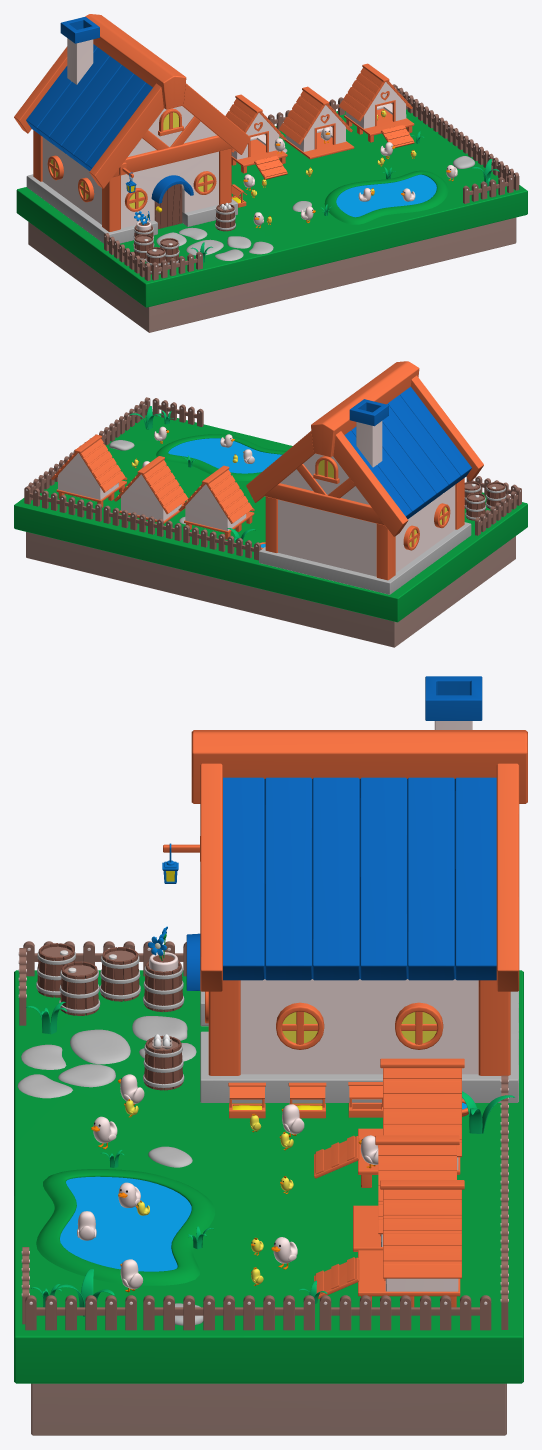
File: Farm_Island_14.glb
3 renders of one model, top to bottom at view 1: azimuth 30°, elevation 25°; view 2: azimuth 150°, elevation 25°; view 3: azimuth 270°, elevation 25°, orthographic. The views are drawn at different scales.
Visible parts, largest first — view 1: Farm_14_Base_1, Farm_14_House_1, Farm_14_Pond_1, Farm_14_Duck_Coop_3, Farm_14_Duck_Coop_2, Farm_14_Duck_Coop_1, Farm_14_Fence_6, Farm_14_Fence_5, Farm_14_Fence_9, Farm_14_Fence_10, Farm_14_Fence_4, Farm_14_Barrel_1 (+3 smaller); view 2: Farm_14_House_1, Farm_14_Base_1, Farm_14_Pond_1, Farm_14_Duck_Coop_1, Farm_14_Duck_Coop_3, Farm_14_Duck_Coop_2, Farm_14_Fence_8, Farm_14_Fence_3, Farm_14_Fence_1, Farm_14_Fence_6, Farm_14_Fence_9, Farm_14_Fence_2 (+4 smaller); view 3: Farm_14_Base_1, Farm_14_House_1, Farm_14_Pond_1, Farm_14_Duck_Coop_3, Farm_14_Duck_Coop_1, Farm_14_Duck_Coop_2, Farm_14_Fence_4, Farm_14_Fence_5, Farm_14_Fence_2, Farm_14_Barrel_3, Farm_14_Barrel_5, Farm_14_Barrel_1 (+12 smaller).
Boxes of the visible parts, box(x1,y1,x2,y2) form: Farm_14_Base_1: box(16, 109, 527, 332); Farm_14_House_1: box(14, 14, 250, 243); Farm_14_Pond_1: box(324, 170, 448, 224); Farm_14_Duck_Coop_3: box(339, 63, 414, 147); Farm_14_Duck_Coop_2: box(278, 86, 354, 159); Farm_14_Duck_Coop_1: box(225, 94, 287, 179); Farm_14_Fence_6: box(104, 233, 150, 280); Farm_14_Fence_5: box(442, 120, 488, 167); Farm_14_Fence_9: box(463, 175, 513, 203); Farm_14_Fence_10: box(152, 251, 202, 280); Farm_14_Fence_4: box(397, 87, 444, 135); Farm_14_Barrel_1: box(215, 203, 235, 231); Farm_14_House_1: box(246, 361, 483, 594); Farm_14_Base_1: box(14, 412, 527, 647); Farm_14_Pond_1: box(156, 434, 286, 480); Farm_14_Duck_Coop_1: box(178, 465, 254, 539); Farm_14_Duck_Coop_3: box(51, 434, 127, 507); Farm_14_Duck_Coop_2: box(114, 456, 188, 523); Farm_14_Fence_8: box(103, 505, 181, 541); Farm_14_Fence_3: box(24, 486, 101, 521); Farm_14_Fence_1: box(183, 525, 260, 560); Farm_14_Fence_6: box(475, 487, 521, 535); Farm_14_Fence_9: box(152, 398, 203, 426); Farm_14_Fence_2: box(119, 397, 150, 434); Farm_14_Base_1: box(14, 970, 523, 1435); Farm_14_House_1: box(186, 676, 527, 1102); Farm_14_Pond_1: box(36, 1169, 214, 1285); Farm_14_Duck_Coop_3: box(314, 1180, 464, 1307); Farm_14_Duck_Coop_1: box(314, 1058, 464, 1187); Farm_14_Duck_Coop_2: box(353, 1135, 459, 1251); Farm_14_Fence_4: box(319, 1295, 491, 1330); Farm_14_Fence_5: box(143, 1295, 314, 1330); Farm_14_Fence_2: box(25, 1295, 136, 1330); Farm_14_Barrel_3: box(99, 947, 140, 1001); Farm_14_Barrel_5: box(59, 961, 100, 1015); Farm_14_Barrel_1: box(143, 1035, 184, 1090).
Size of the model in its own units: 18.91 by 10.31 by 11.09.
Materials: 67 (67 with a texture image).
